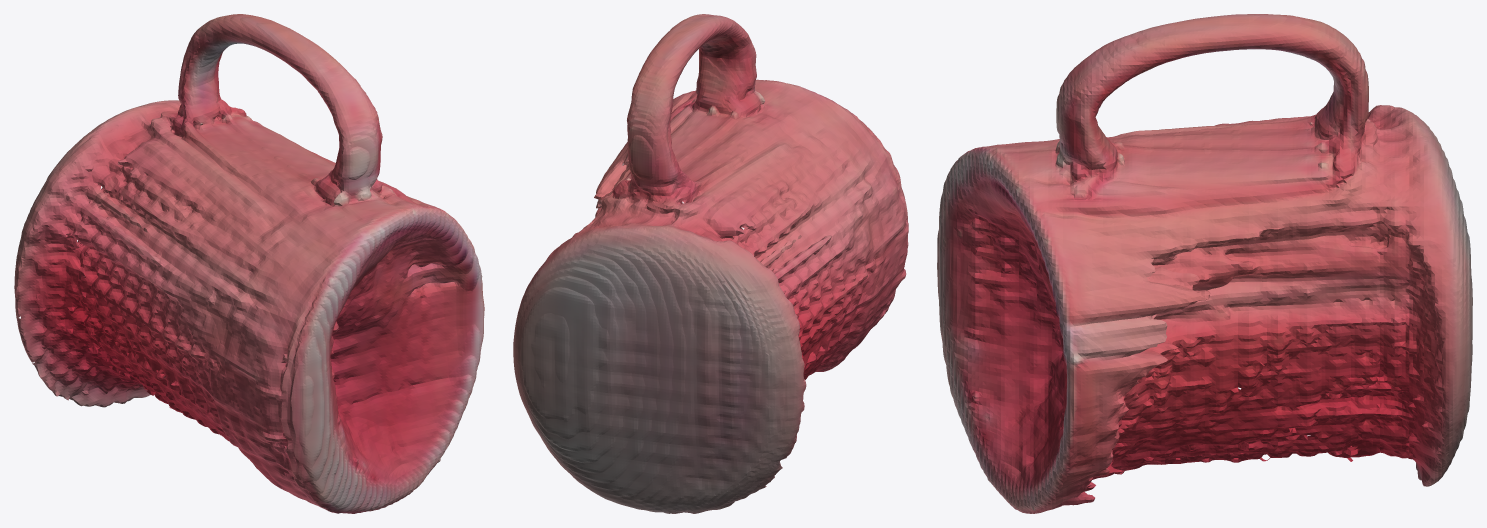
Rendered from cup.glb.
The picture shows the model from 3 angles, left to right: view 1: azimuth 30°, elevation 25°; view 2: azimuth 150°, elevation 25°; view 3: azimuth 270°, elevation 25°; orthographic projection. The views are drawn at different scales.
Visible parts, largest first — view 1: world; view 2: world; view 3: world.
Boxes of the visible parts, box(x1,y1,x2,y2) form: world: box(14, 14, 484, 513); world: box(513, 14, 908, 513); world: box(937, 14, 1472, 513).
Size of the model in its own units: 0.8357 by 0.9872 by 1.
